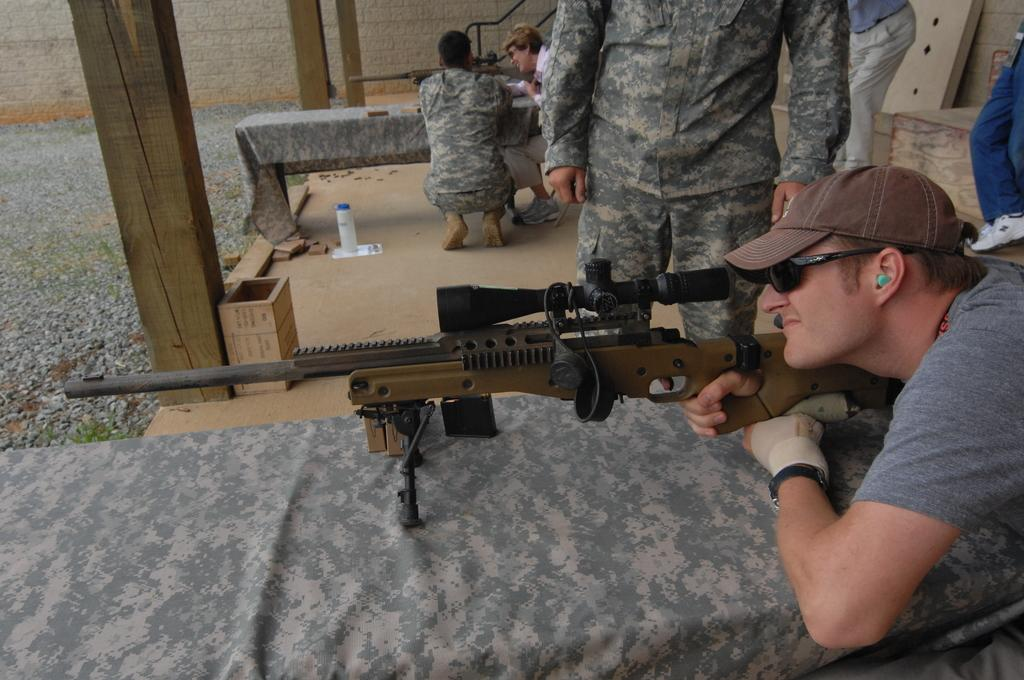Rifle: (63, 260, 895, 524)
